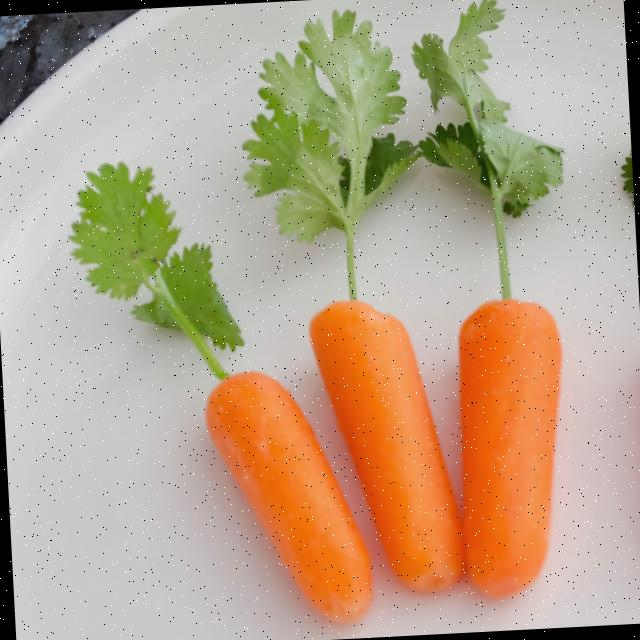carrot: (310, 300, 464, 590), (206, 372, 371, 620), (459, 299, 561, 597)
